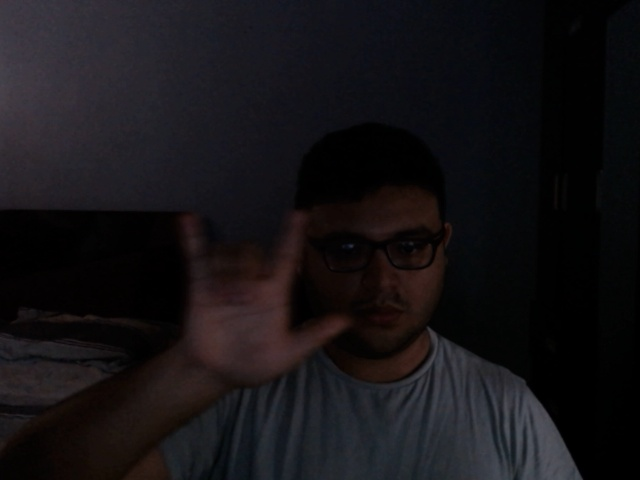I love you: (167, 205, 358, 398)
